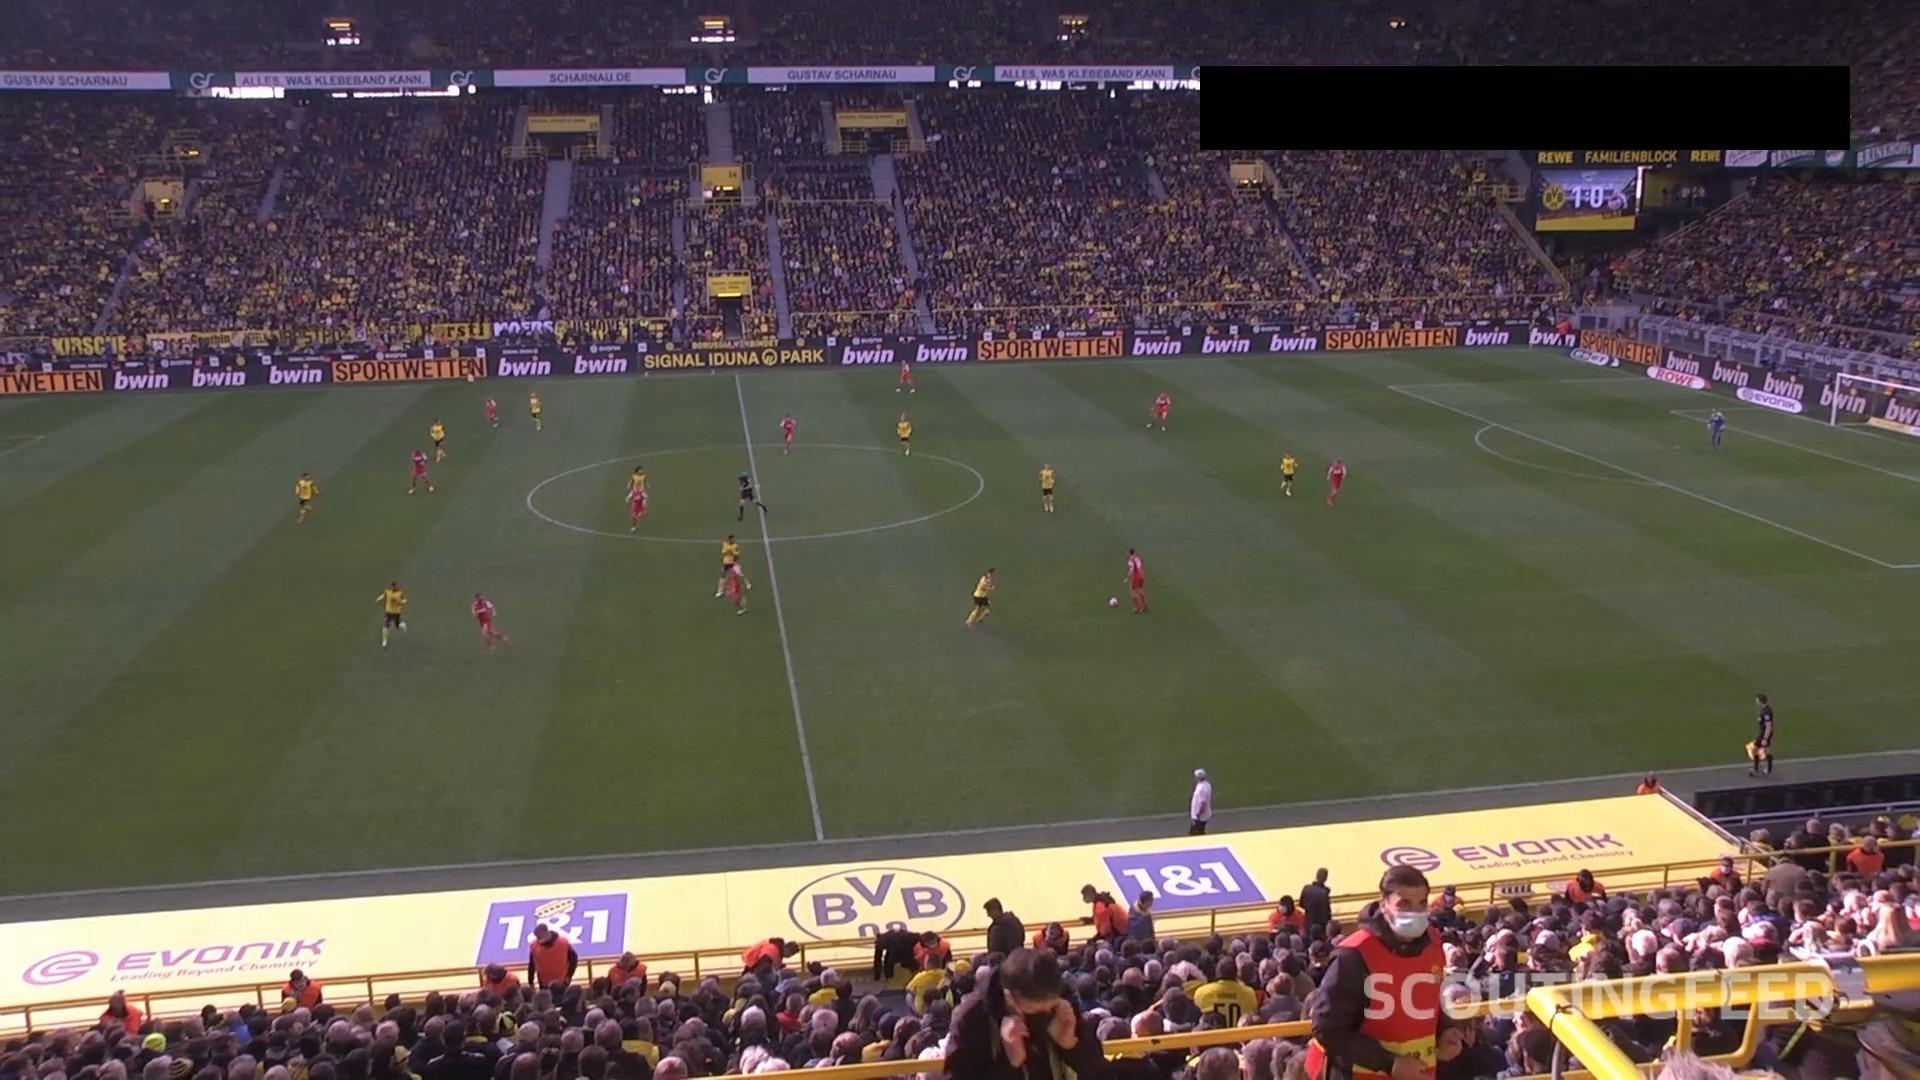ball: (1108, 596, 1117, 606)
coach: (1188, 767, 1212, 834)
fan: (1308, 864, 1447, 1078), (942, 947, 1108, 1078), (526, 921, 577, 990), (982, 897, 1025, 956)
player: (713, 532, 751, 615), (373, 580, 408, 649), (470, 591, 508, 647), (964, 566, 996, 626), (1122, 547, 1148, 613), (624, 464, 649, 532), (624, 483, 654, 538), (723, 561, 752, 615), (293, 471, 318, 525), (406, 447, 434, 495), (1325, 457, 1346, 506), (1036, 463, 1056, 513), (1147, 390, 1170, 431), (1706, 406, 1726, 448), (1278, 452, 1297, 496), (428, 419, 446, 462), (895, 411, 912, 456), (894, 358, 915, 394), (778, 413, 796, 455), (527, 391, 543, 432), (483, 394, 499, 428)
referee: (1751, 692, 1775, 774), (735, 466, 767, 521)
